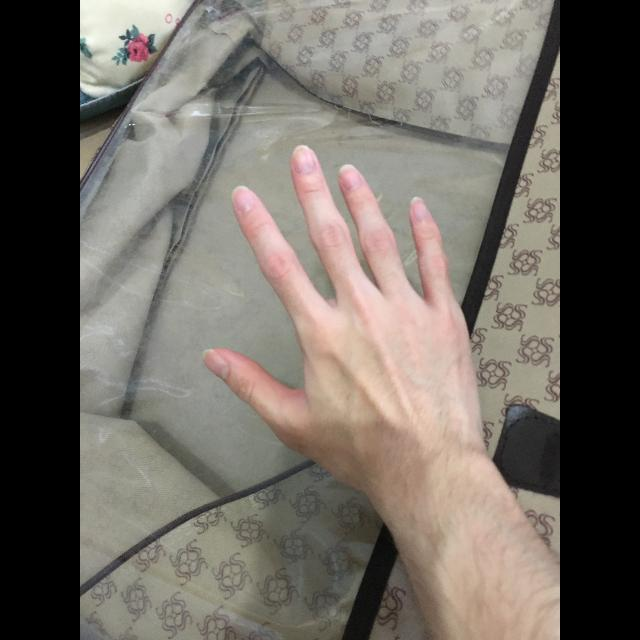bare_hand: (200, 142, 490, 468)
